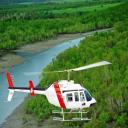helicopter: (5, 60, 112, 124)
